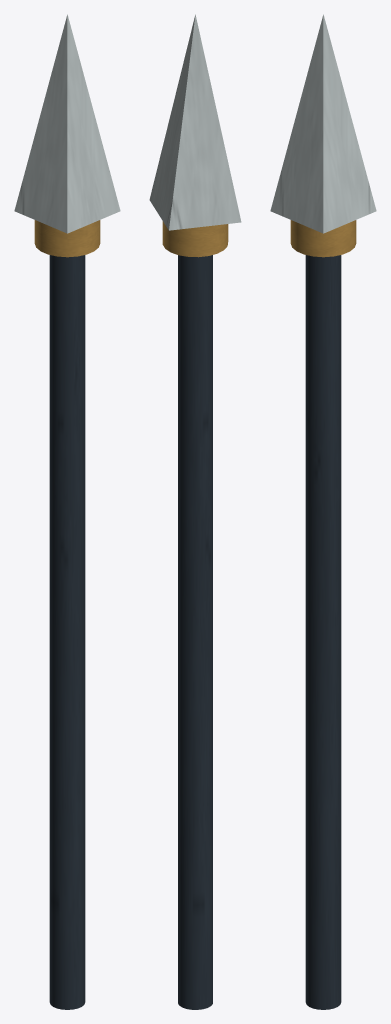
File: Lance.glb
The picture shows the model from 3 angles, left to right: view 1: azimuth 90°, elevation 25°; view 2: azimuth 150°, elevation 25°; view 3: azimuth 270°, elevation 25°; orthographic projection.
Visible parts, largest first — view 1: Shaft, Spearhead, Collar; view 2: Shaft, Spearhead, Collar; view 3: Shaft, Spearhead, Collar.
Part boxes in pixels (<box>): Shaft: <box>49,255,85,1009</box>; Spearhead: <box>14,14,120,233</box>; Collar: <box>34,220,100,257</box>; Shaft: <box>178,255,212,1009</box>; Spearhead: <box>149,14,241,230</box>; Collar: <box>162,221,228,257</box>; Shaft: <box>305,255,341,1009</box>; Spearhead: <box>270,14,376,233</box>; Collar: <box>290,220,356,257</box>.
Size of the model in its own units: 0.21 by 2.16 by 0.21.
3 materials, 3 textured.
